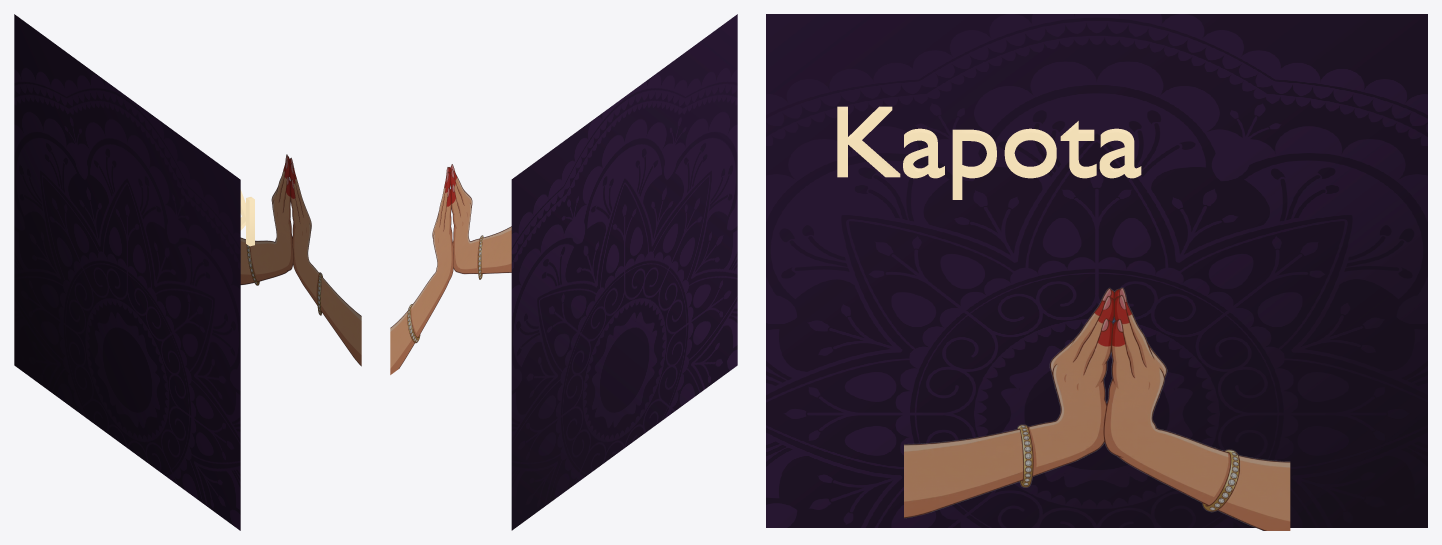
Rendered from kapota.glb.
3 views of the same model, side by side, from view 1: azimuth 30°, elevation 25°; view 2: azimuth 150°, elevation 25°; view 3: azimuth 270°, elevation 25° (orthographic). The views are drawn at different scales.
Visible parts, largest first — view 1: Plane.001, Anjali.001, Text.026; view 2: Plane.001, Anjali.001; view 3: Plane.001, Anjali.001, Text.026.
Boxes of the visible parts, bbox=[...] form: Plane.001: bbox=[14, 14, 240, 530]; Anjali.001: bbox=[240, 154, 361, 366]; Text.026: bbox=[240, 190, 254, 246]; Plane.001: bbox=[511, 14, 737, 530]; Anjali.001: bbox=[390, 164, 511, 374]; Plane.001: bbox=[766, 14, 1427, 527]; Anjali.001: bbox=[904, 287, 1290, 530]; Text.026: bbox=[837, 106, 1141, 199].
Size of the model in its own units: 1.53 by 3.05 by 3.56.
Materials: 3 (2 with a texture image).
